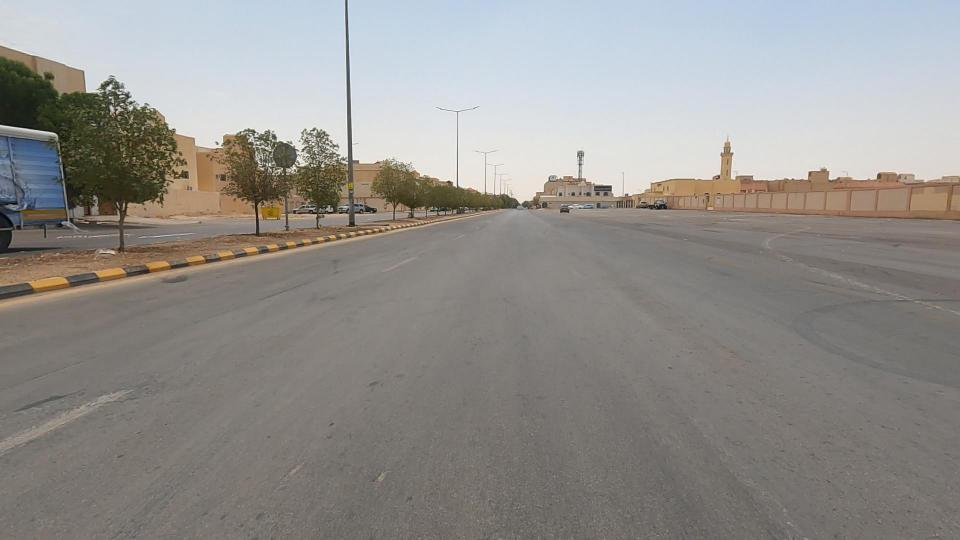GARBAGE: (53, 218, 156, 291)
